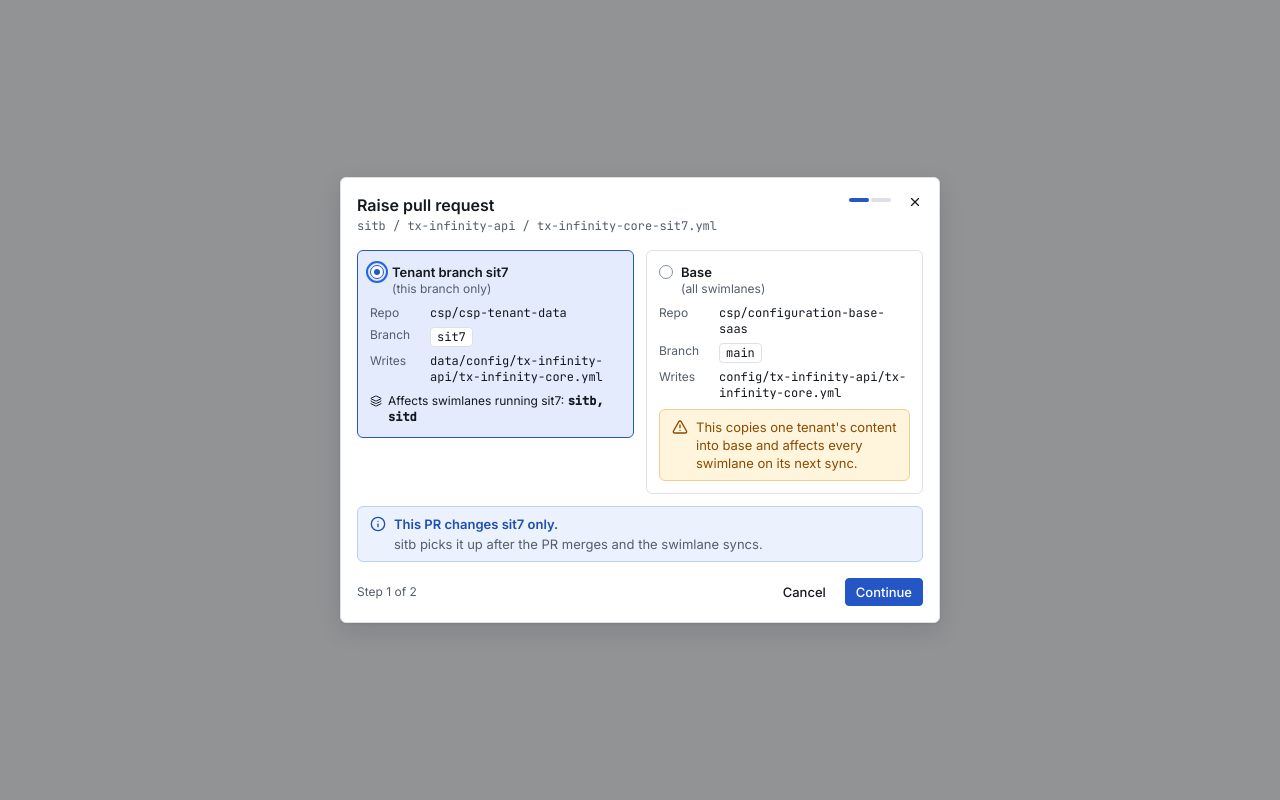
Scenario: PrDialog: choosing the target › says a change to base reaches every swimlane, and warns that it copies a tenant's content into base (1c)
Click the radio button named "Base" at [666, 272], box [659,265,673,279]
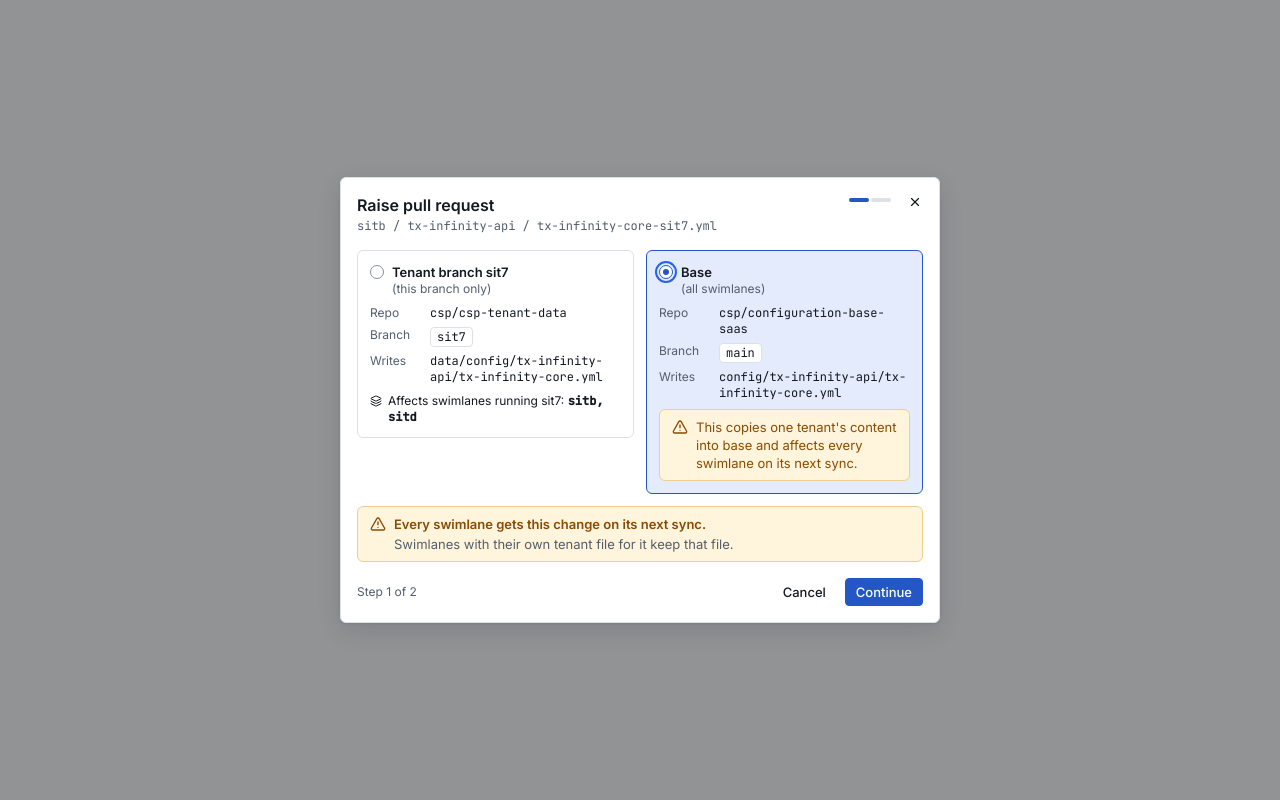
Expected: the text "This copies one tenant's content into base and affects every swimlane on its next sync." is shown, [696,419,896,471]
Result: the text "Every swimlane gets this change on its next sync." is shown at [394,516,706,532]
